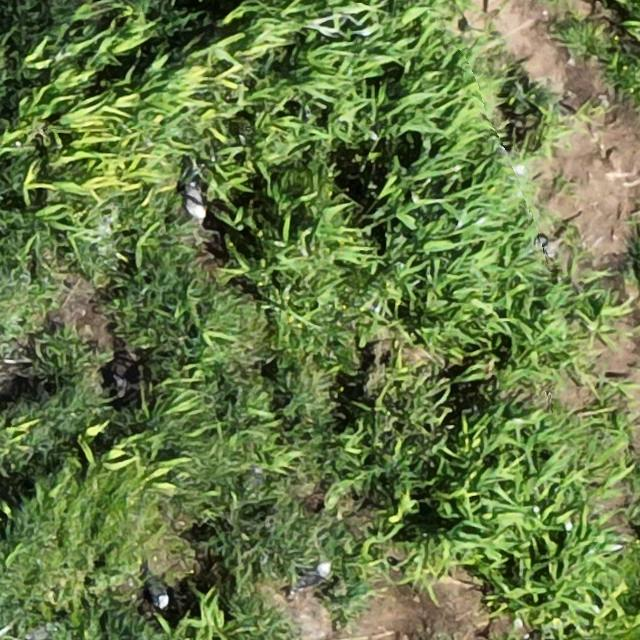umineko: (298, 561, 332, 592), (186, 184, 205, 219), (152, 586, 170, 609)
